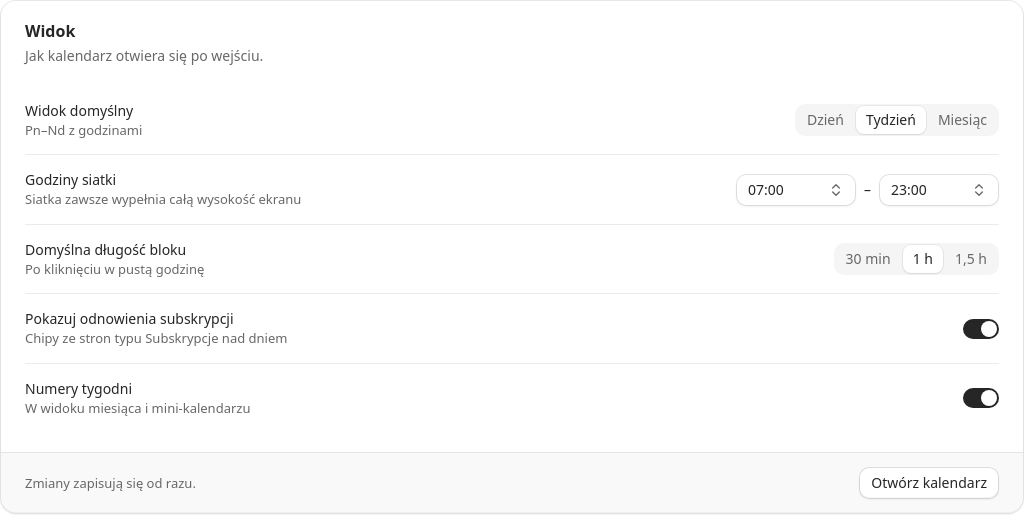
Test: CalendarSettingsCard › zapisuje zmianę od razu
What coordinates should you click on to do the following:
click the radio button labelled "Miesiąc"
I would click on:
 (962, 120)
Its box is [928,106,997,134].
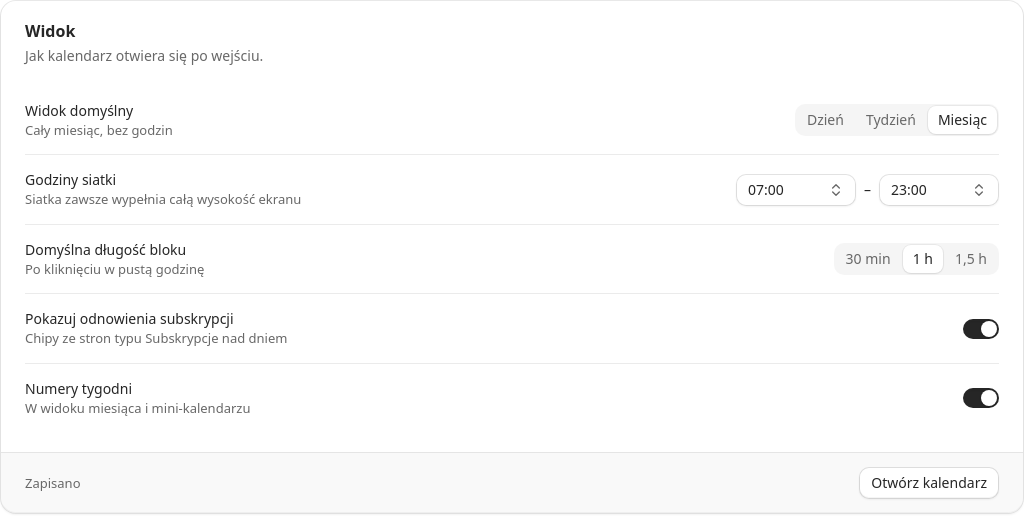
Expected: the message reads "Zapisano", [25,474,80,492]
